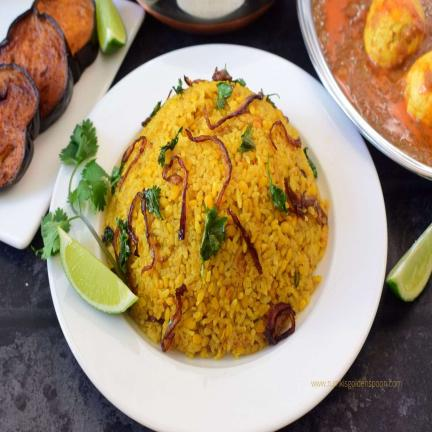khichuri: (107, 69, 328, 359)
